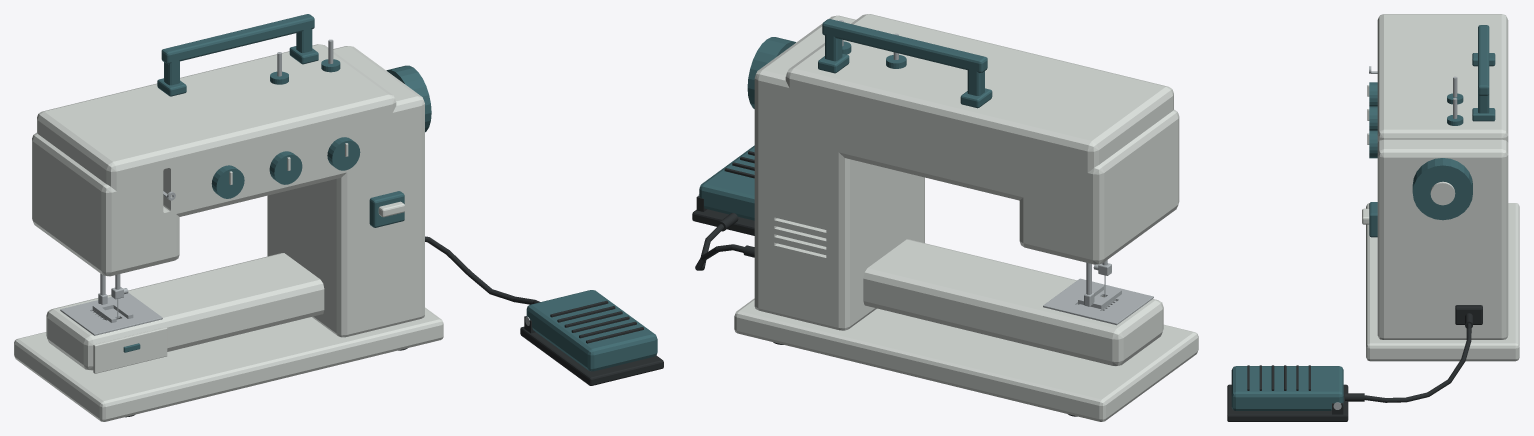
The picture shows the model from 3 angles, left to right: view 1: azimuth 30°, elevation 25°; view 2: azimuth 150°, elevation 25°; view 3: azimuth 270°, elevation 25°; orthographic projection. The views are drawn at different scales.
Parts seen in each view (by area): view 1: Enclosed electric chassis, Controller tread, Lift handle, Closed bobbin hatch, Controller sole, Needle plate, Handwheel, Reverse control seat, Control dial.001, Control dial, Control dial.002, Connected controller cable; view 2: Enclosed electric chassis, Lift handle, Controller tread, Needle plate, Handwheel, Controller sole, Connected controller cable; view 3: Enclosed electric chassis, Controller tread, Handwheel, Controller sole, Lift handle, Connected controller cable, Electrical socket, Handwheel hub cap, Reverse control seat.
Part boxes in pixels (box(x1,y1,x2,y2)): Enclosed electric chassis: box(14, 44, 443, 421); Controller tread: box(526, 290, 657, 371); Lift handle: box(161, 14, 314, 85); Closed bobbin hatch: box(93, 327, 167, 373); Controller sole: box(520, 326, 663, 385); Needle plate: box(60, 292, 162, 335); Handwheel: box(386, 65, 431, 132); Reverse control seat: box(369, 191, 404, 227); Control dial.001: box(269, 151, 302, 184); Control dial: box(211, 165, 244, 198); Control dial.002: box(327, 137, 360, 170); Connected controller cable: box(425, 236, 540, 304); Enclosed electric chassis: box(734, 14, 1198, 421); Lift handle: box(822, 19, 987, 95); Controller tread: box(699, 145, 754, 220); Needle plate: box(1043, 278, 1153, 325); Handwheel: box(747, 37, 795, 108); Controller sole: box(692, 209, 754, 235); Connected controller cable: box(695, 224, 744, 270); Enclosed electric chassis: box(1366, 14, 1519, 361); Controller tread: box(1231, 366, 1343, 410); Handwheel: box(1412, 158, 1472, 220); Controller sole: box(1227, 384, 1348, 421); Lift handle: box(1478, 25, 1489, 113); Connected controller cable: box(1364, 323, 1471, 402); Electrical socket: box(1455, 305, 1482, 324); Handwheel hub cap: box(1430, 181, 1455, 205); Reverse control seat: box(1369, 202, 1377, 237).
Bounding box in the file's own units: 0.583 × 0.343 × 0.358.
